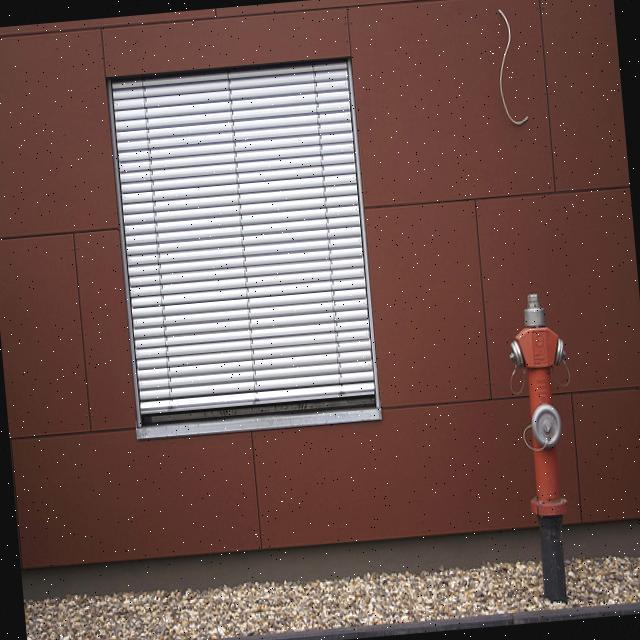fire_hydrant: (500, 288, 590, 610)
